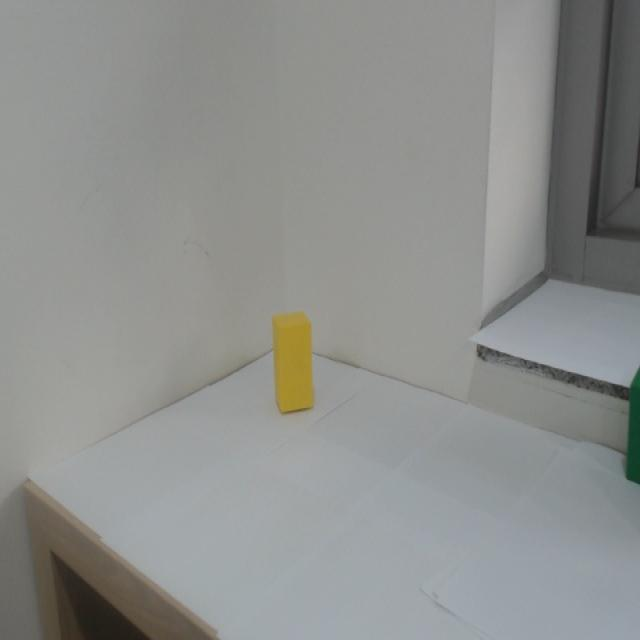cube: (264, 296, 324, 430)
